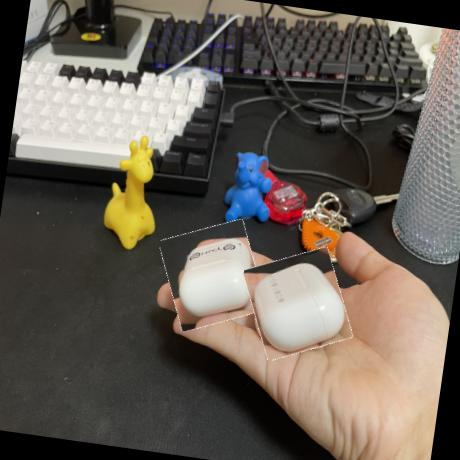airpod2: (154, 214, 270, 336)
airpod3: (239, 244, 356, 364)
